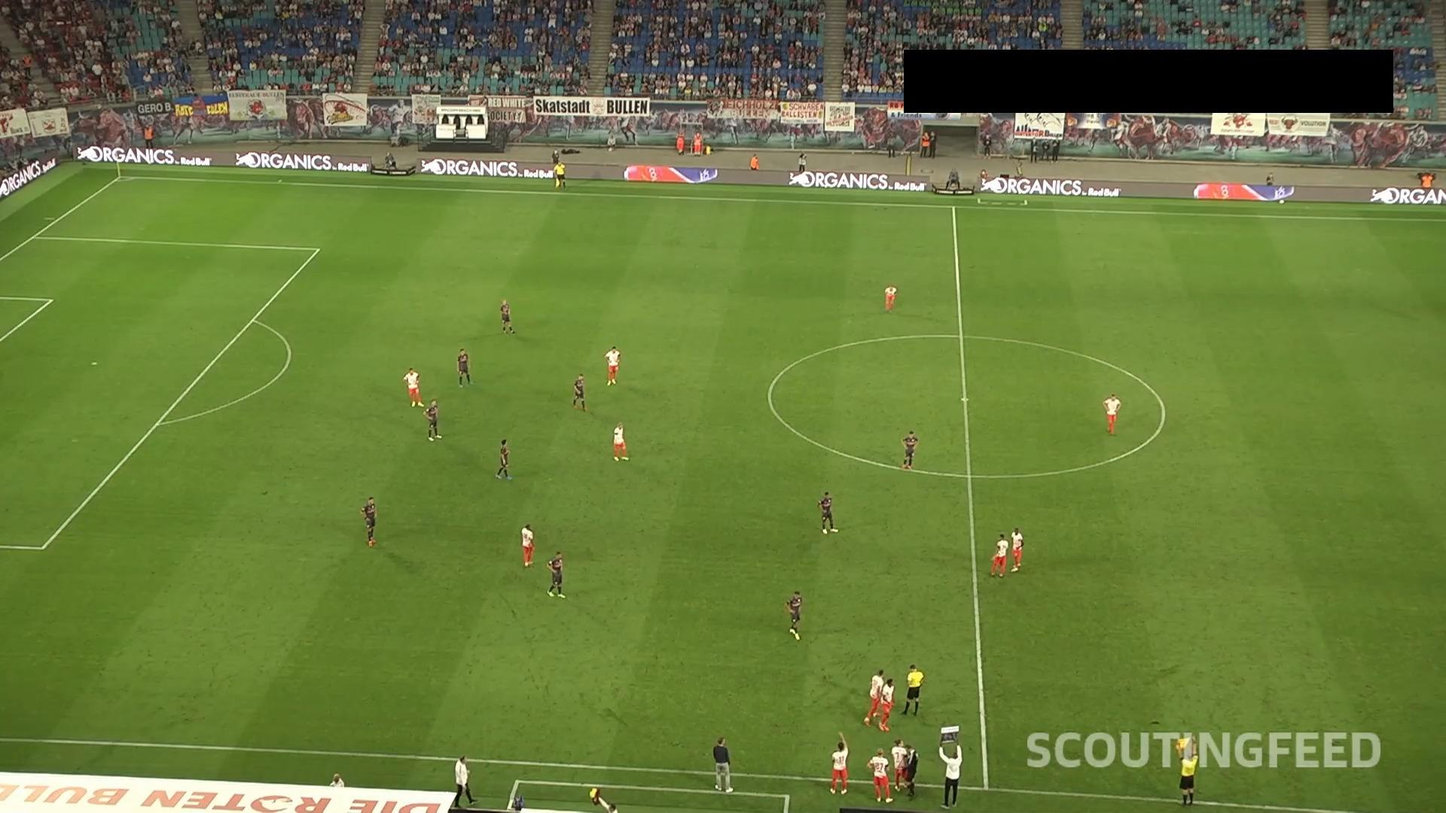player: (865, 667, 888, 721), (547, 552, 569, 600), (870, 748, 889, 803), (820, 491, 842, 534), (831, 741, 849, 792), (603, 345, 624, 387), (890, 740, 908, 788), (1103, 391, 1122, 432), (787, 589, 804, 634), (993, 535, 1011, 576), (363, 496, 378, 545), (494, 441, 513, 479), (405, 370, 422, 412), (881, 673, 893, 727), (456, 349, 473, 387), (426, 399, 441, 440), (613, 422, 628, 462), (569, 376, 586, 411), (521, 524, 534, 568), (903, 429, 916, 470), (1011, 529, 1024, 570), (501, 298, 511, 328), (886, 286, 895, 310)
referee: (1176, 735, 1198, 806), (903, 667, 925, 714), (554, 160, 568, 190)
